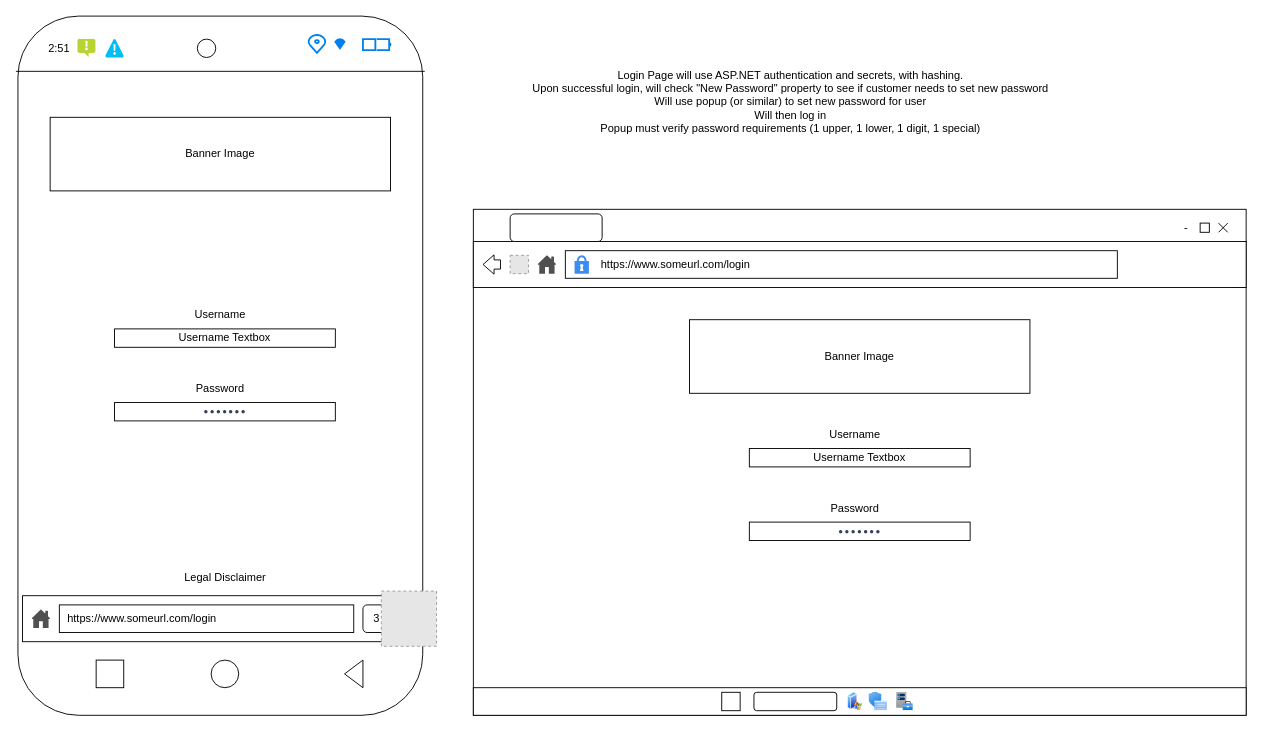
The diagram is 1264 pixels wide and 731 high, and some of its shapes have lost their labels. Grey dashed boxes stand in for pictures. The shapes that lost their labels are listed below. From the top down, each one's centre as x and y in pixels, then its label:
(555,227): Tab
(795,701): Search
